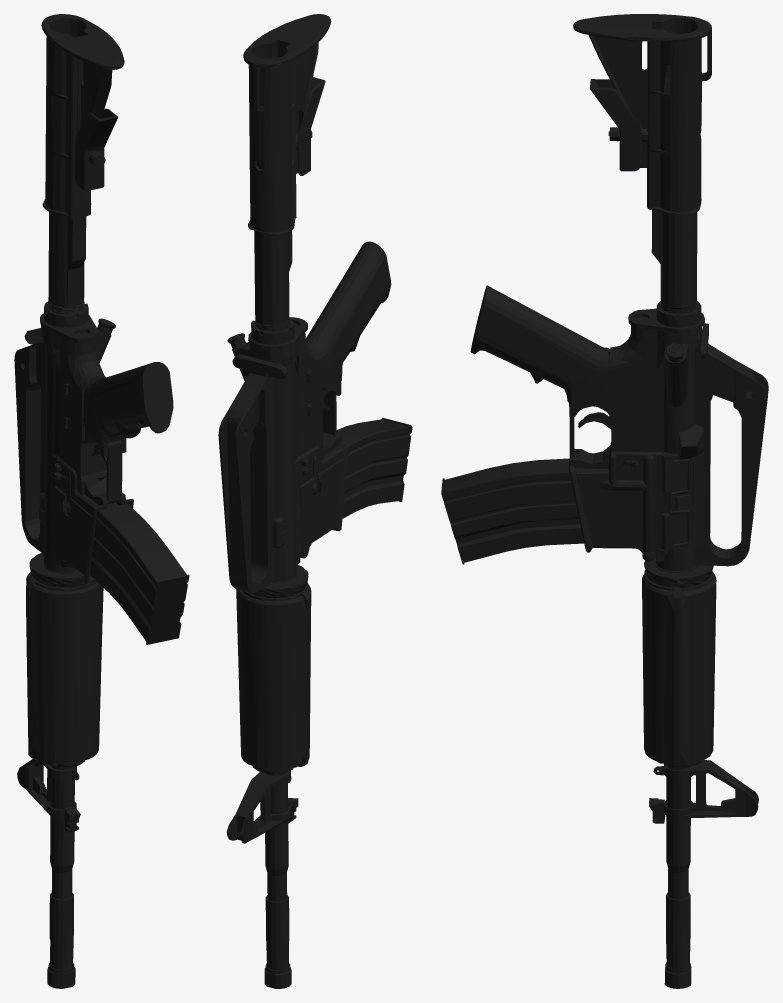
File: w_rif_m4a1_s.obj
3 renders of one model, left to right at view 1: azimuth 30°, elevation 25°; view 2: azimuth 150°, elevation 25°; view 3: azimuth 270°, elevation 25°, orthographic. The views are drawn at different scales.
Size of the model in its own units: 0.0362 by 0.3892 by 0.1202.
Materials: 1 (1 with a texture image).
